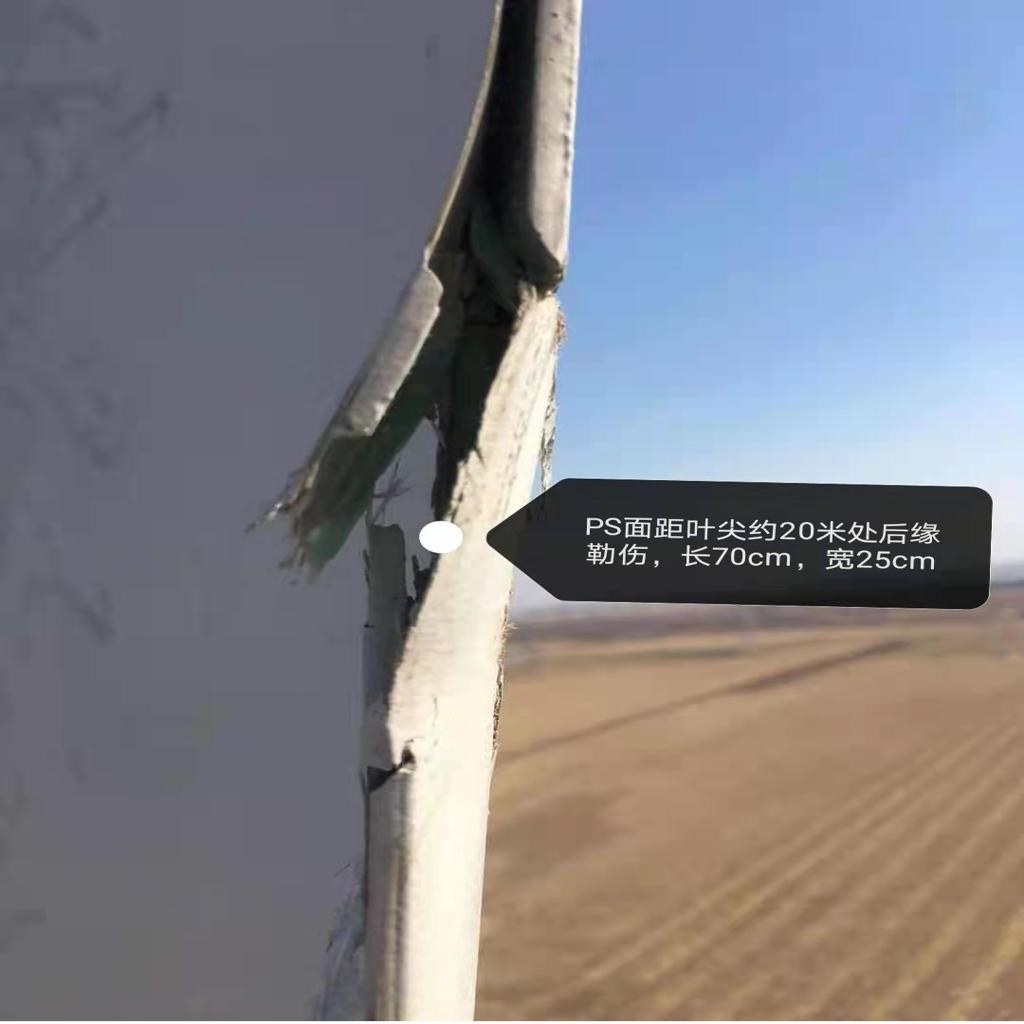craze: (277, 16, 579, 784)
